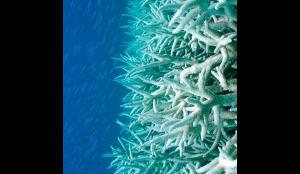bleached_corals: (109, 0, 237, 174)
